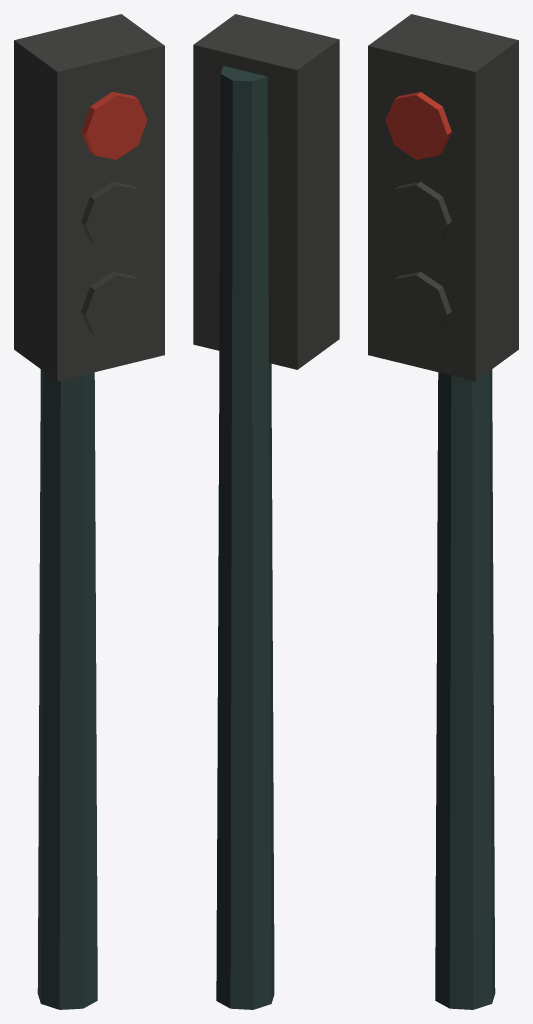
The model's file is TrafficSignal.obj.
The picture shows the model from 3 angles, left to right: view 1: azimuth 30°, elevation 25°; view 2: azimuth 150°, elevation 25°; view 3: azimuth 330°, elevation 25°; orthographic projection. The views are drawn at different scales.
Parts seen in each view (by area): view 1: TrafficSignal; view 2: TrafficSignal; view 3: TrafficSignal.
Boxes of the visible parts, x1,y1,x2,y2 form: TrafficSignal: (14, 14, 164, 1009); TrafficSignal: (193, 14, 339, 1009); TrafficSignal: (368, 14, 518, 1009).
Size of the model in its own units: 0.4 by 3.45 by 0.415.
1 material, 1 textured.
